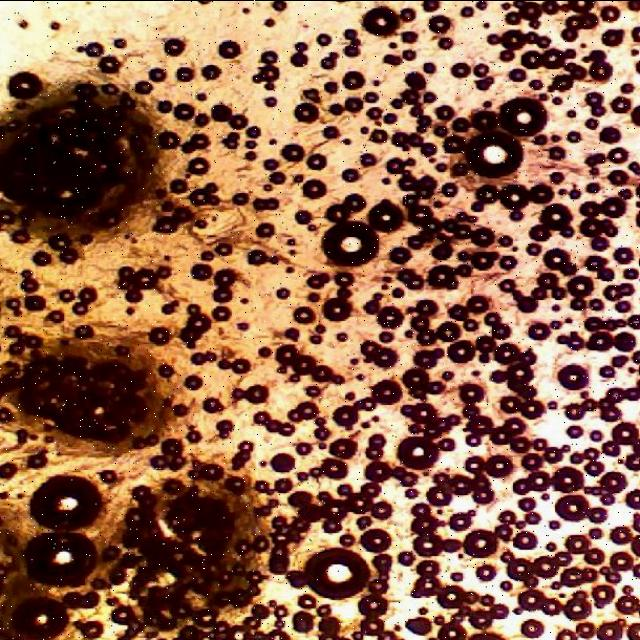microbeads: (301, 540, 375, 604), (462, 126, 524, 182), (320, 217, 380, 269)
